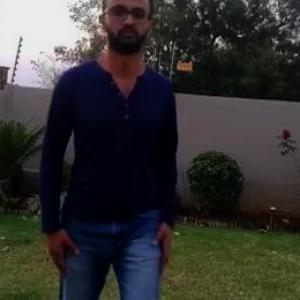follow: (59, 0, 181, 299)
